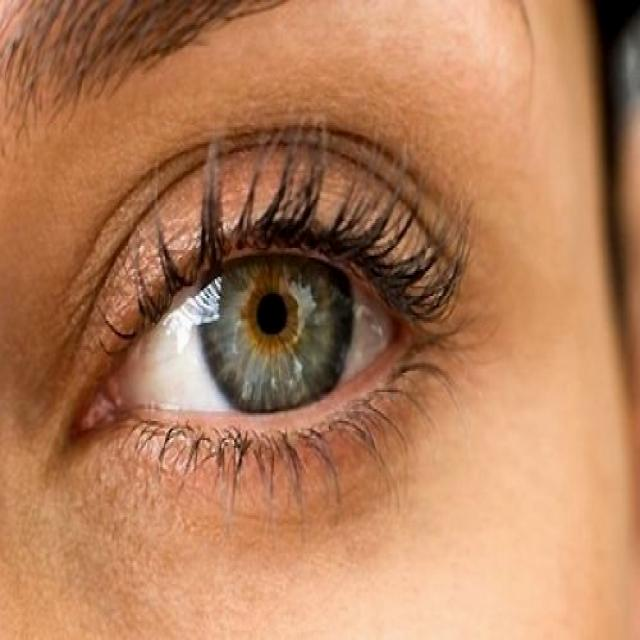Normal: (37, 118, 475, 489)
